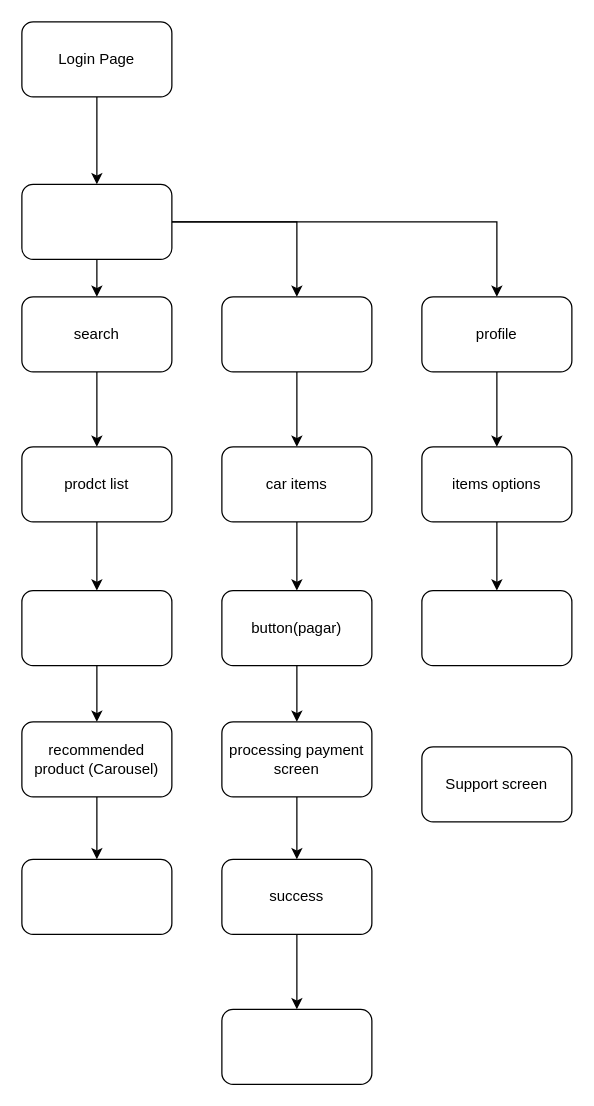
This 594x1106 diagram has some shape labels left out. Each missing label, with the centre of its shape:
Back to Home: (296,1046)
button(+): (96,896)
button(suppport): (496,627)
cesta: (296,334)
Home page: (96,221)
product detail: (96,627)
